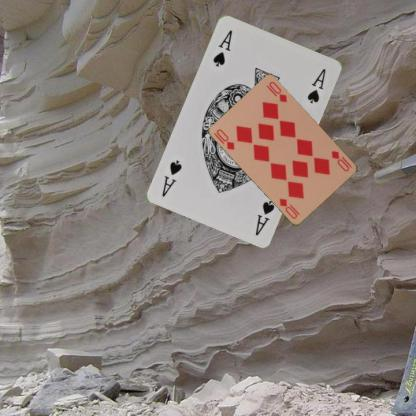10d: (328, 148, 353, 173), (212, 126, 236, 152)
As: (210, 27, 233, 68), (252, 197, 275, 237)
